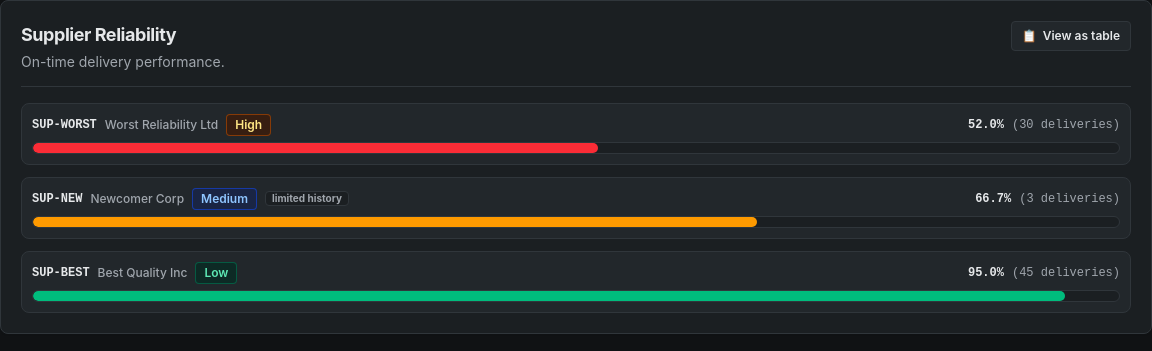
Test: SupplierReliabilityBars Component › provides accessible tabular alternative
# Switch to table
Click the button with aria-label "switch to accessible tabular view" at (1071, 36), box left=1011, top=21, right=1131, bottom=51
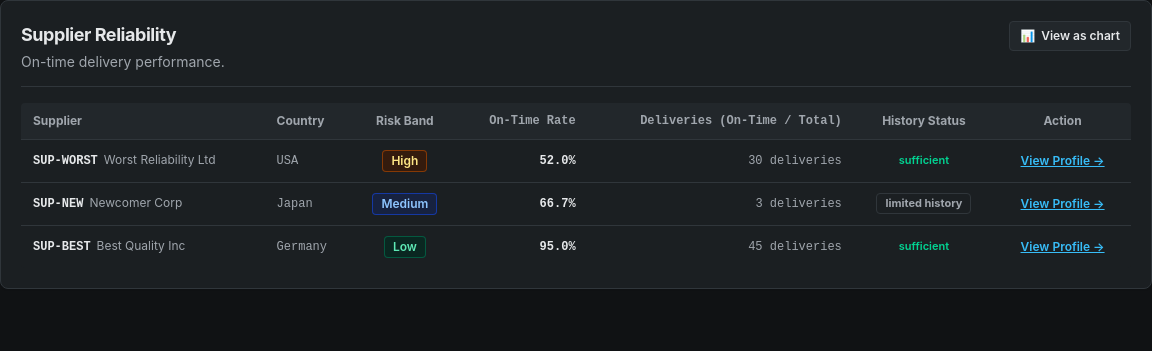
Expected: the text "SUP-WORST" is shown, left=33, top=154, right=98, bottom=168
Now the table is shown, box left=21, top=103, right=1131, bottom=268
